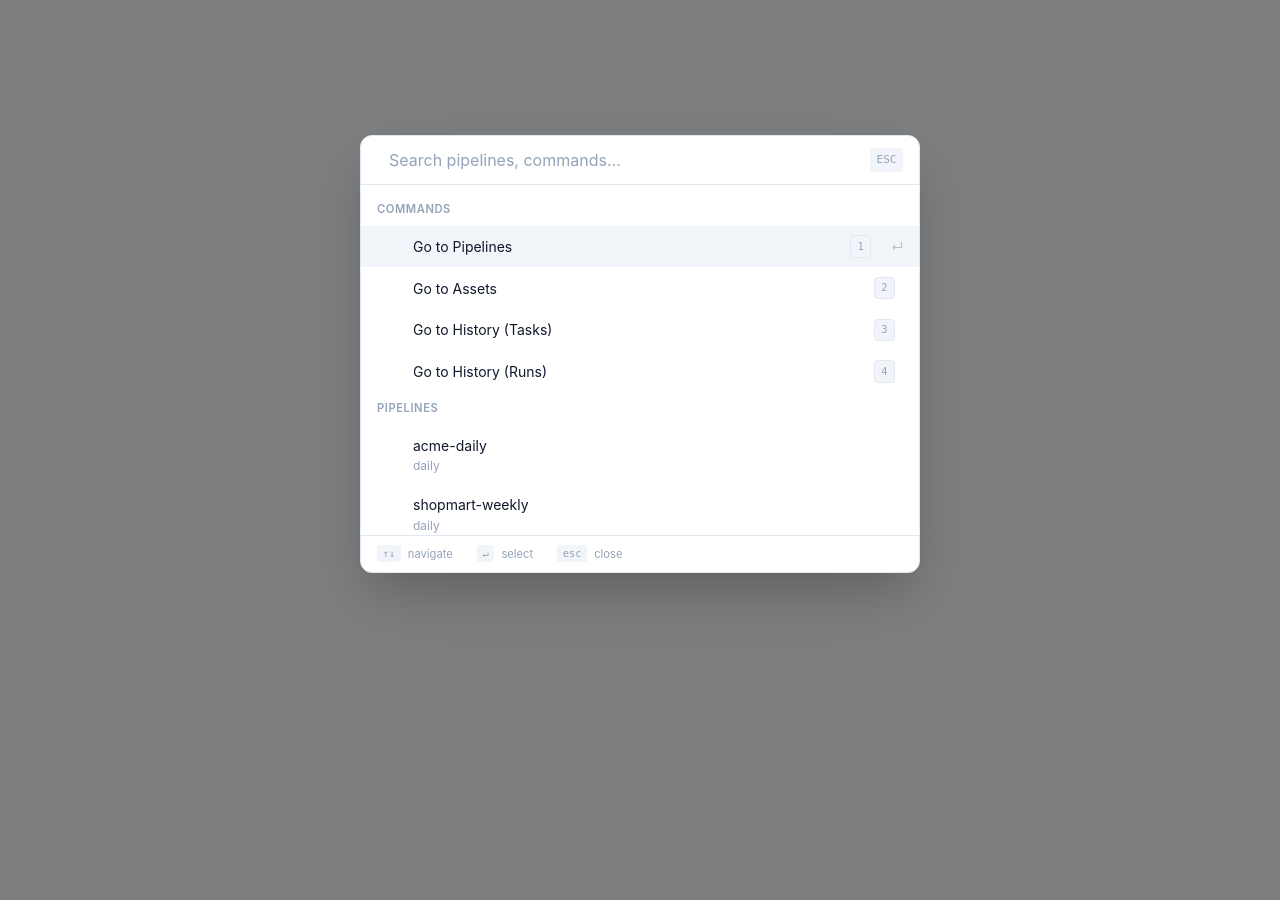
Test: CommandPalette › search filtering › filters pipelines by name
In the dropdown: (624, 160) [389,148,858,172], type "acme"
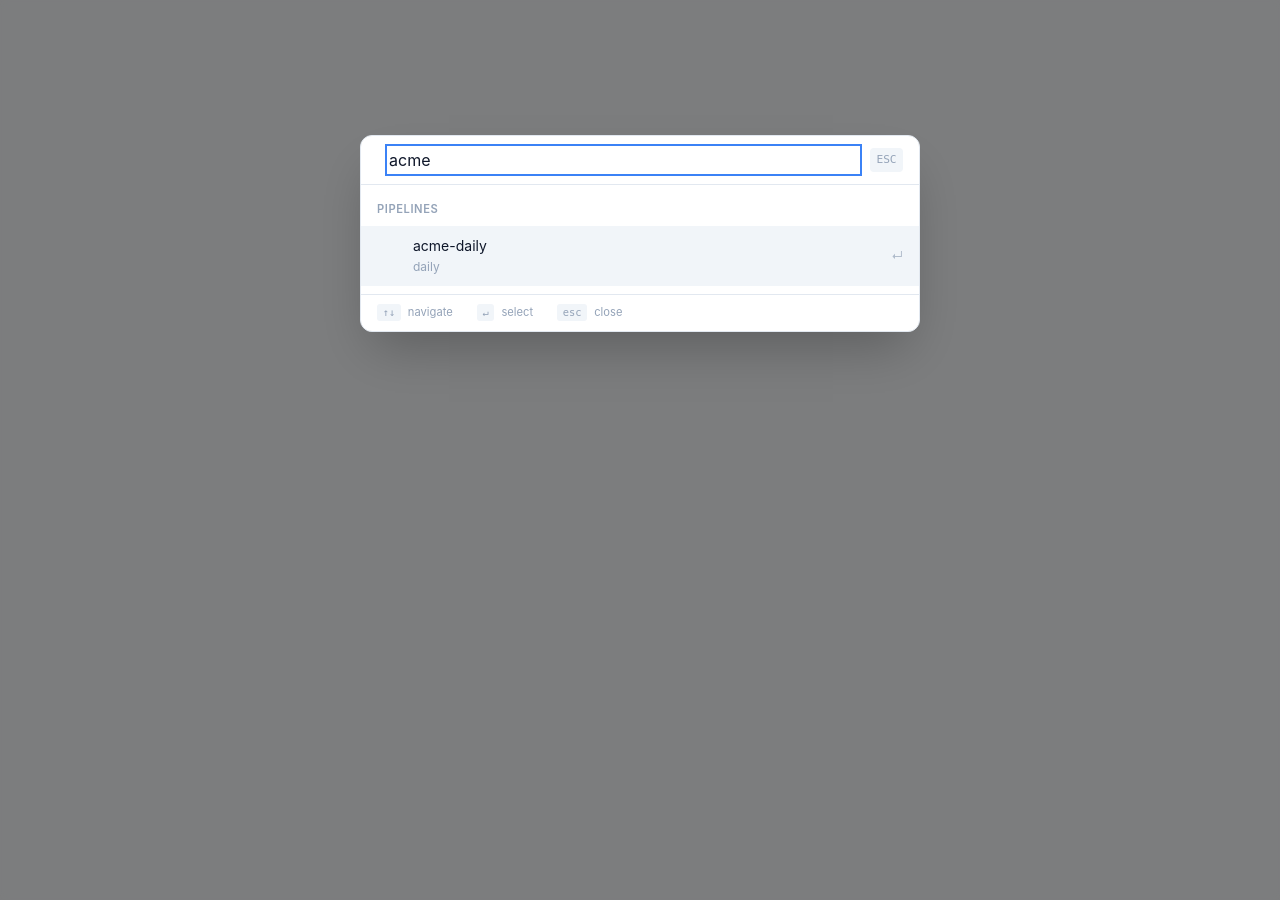
Check: the text "acme-daily" is shown, box [413,237,487,254]
Check: the option "shopmart-weekly" is gone
